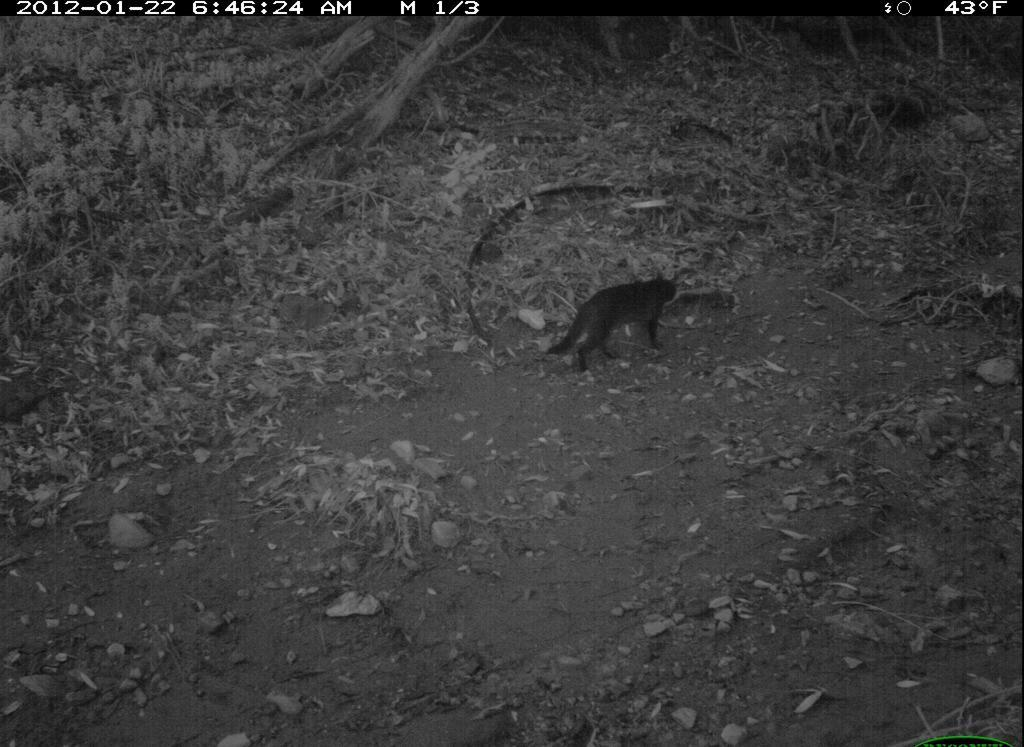cat: (542, 269, 684, 369)
